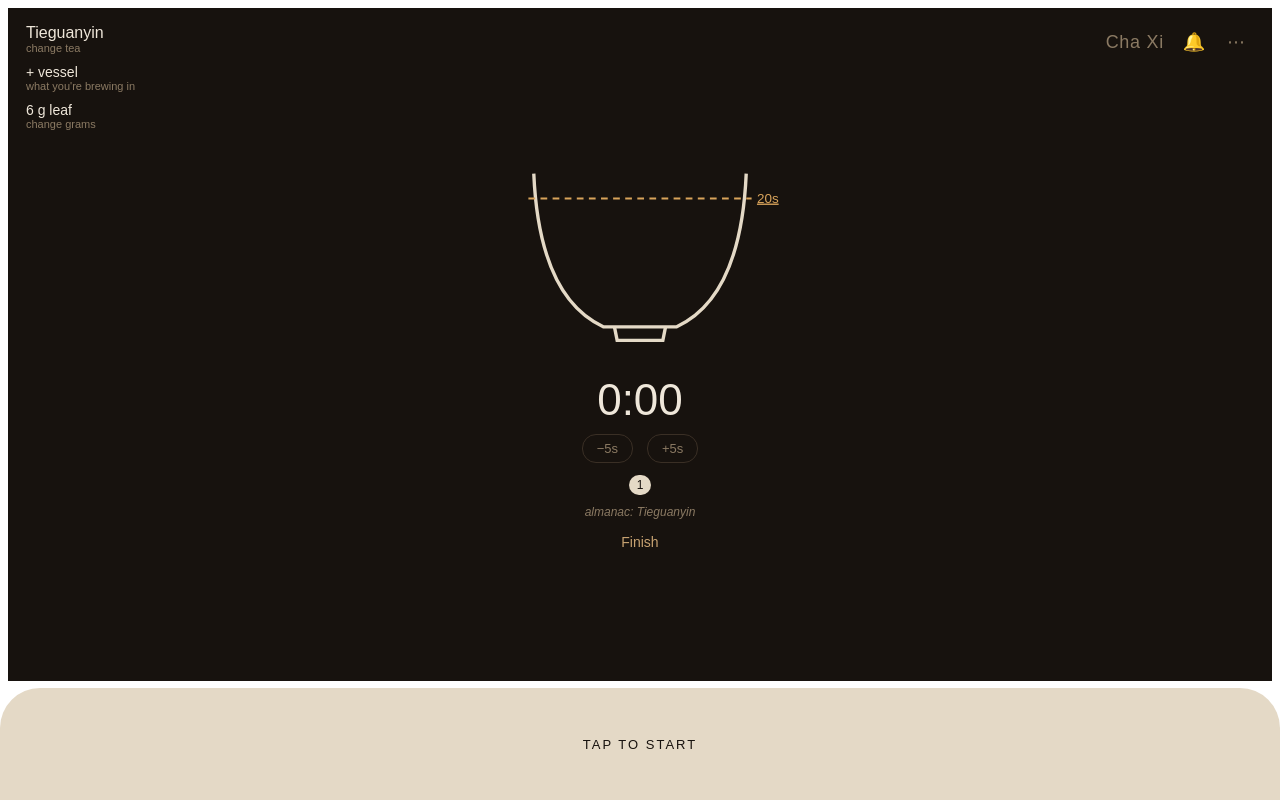
Test: TimerPage › edits the leaf grams for this brew and syncs them
Click the button with test id "timer-leaf": [81, 116] box [26, 102, 135, 130]
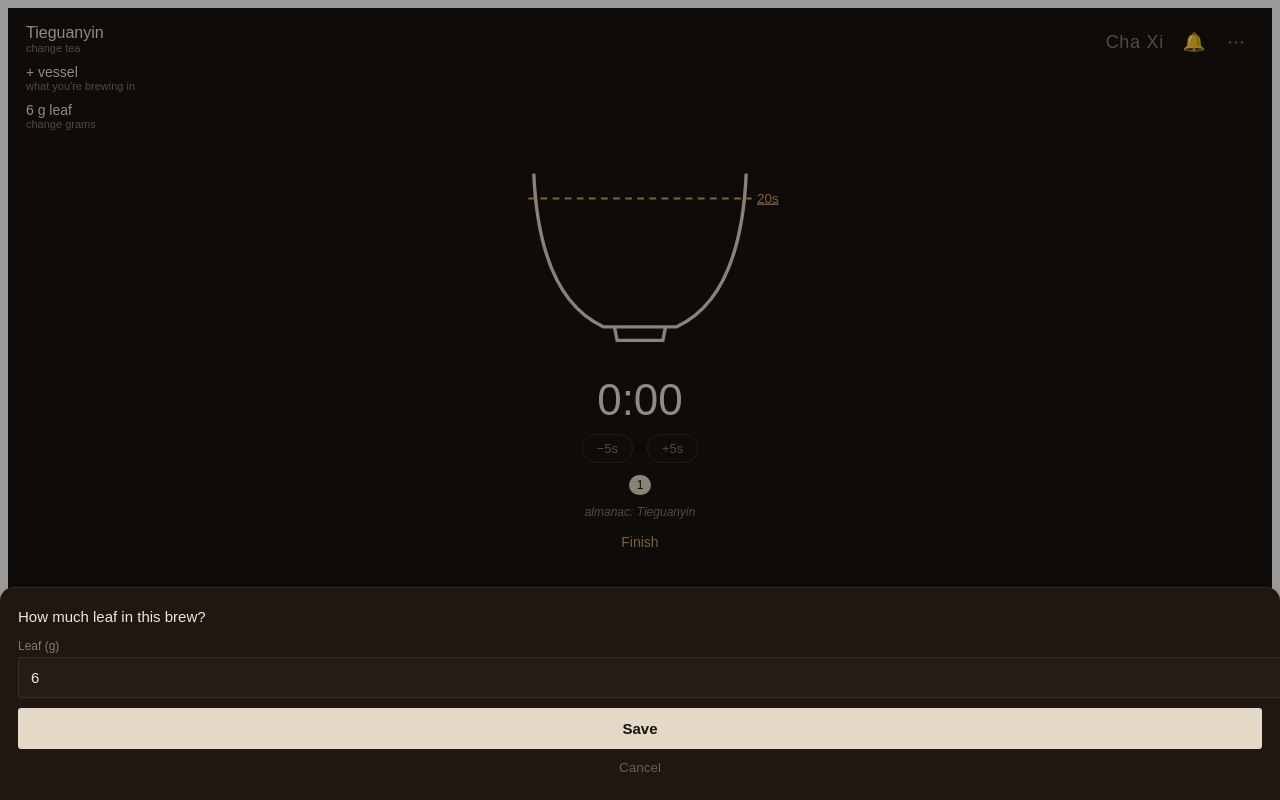
Replace the text in the field with test id "leaf-grams" with "7.5": [649, 678] box [18, 657, 1279, 698]
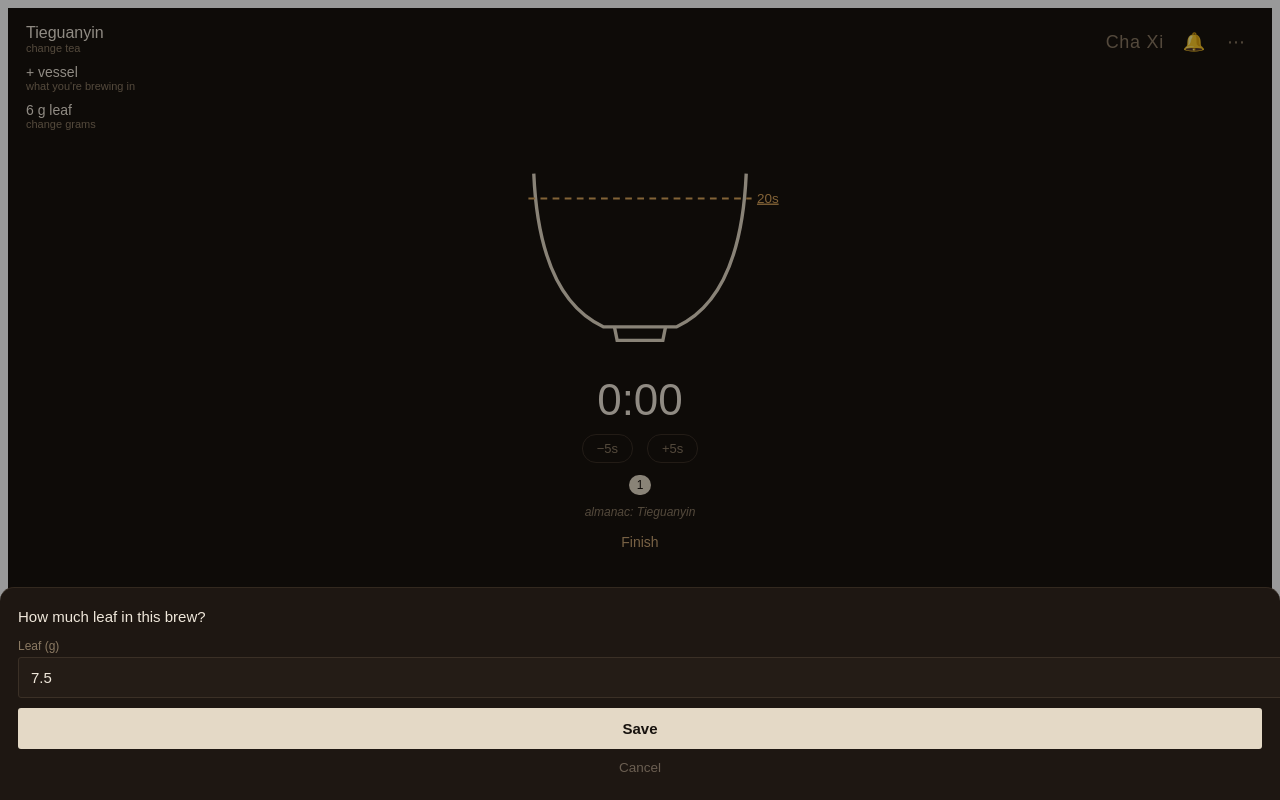
Click the button with test id "leaf-save": [640, 728] box [18, 708, 1262, 749]
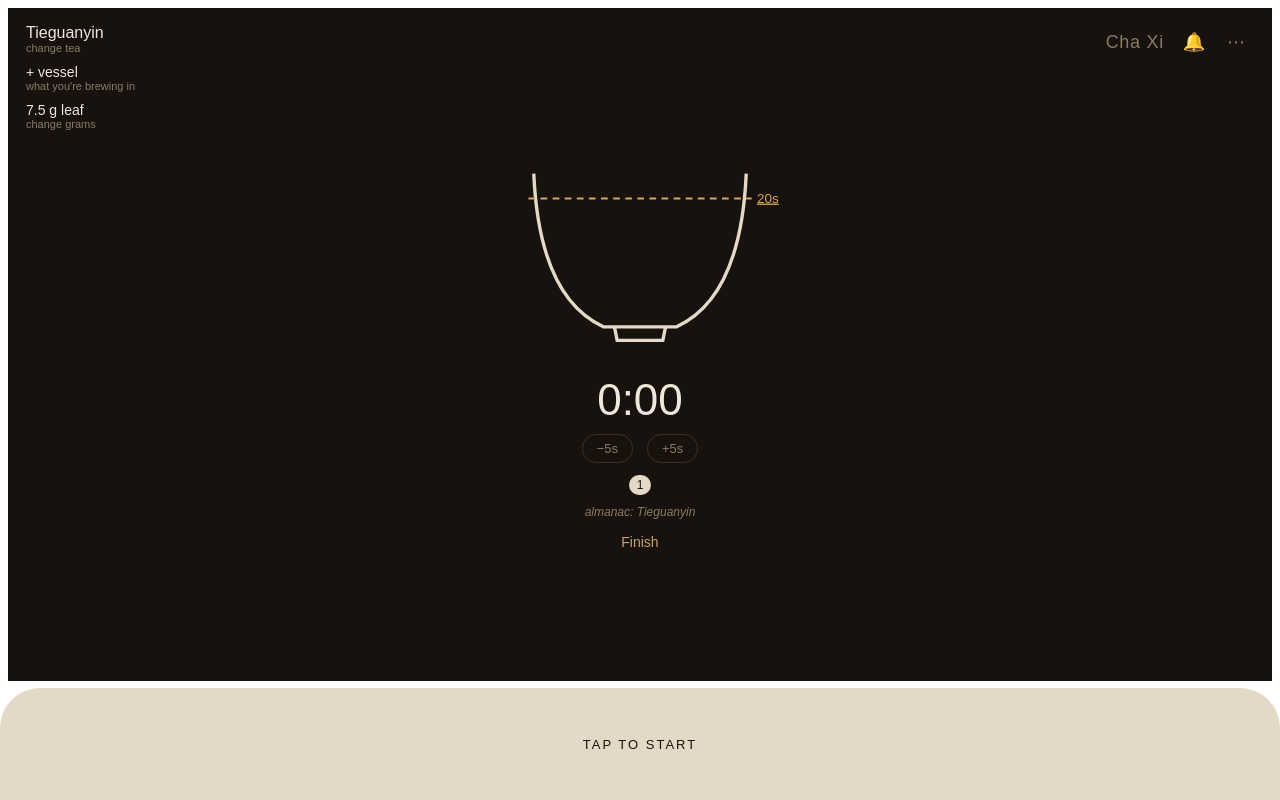
Result: the button with test id "timer-leaf" shows "7.5 g leaf" at [26, 102, 135, 130]
